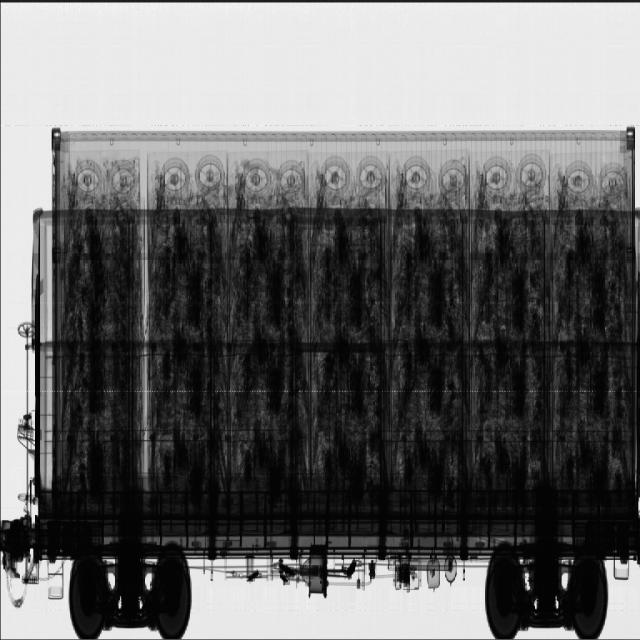textile: (72, 120, 598, 470)
